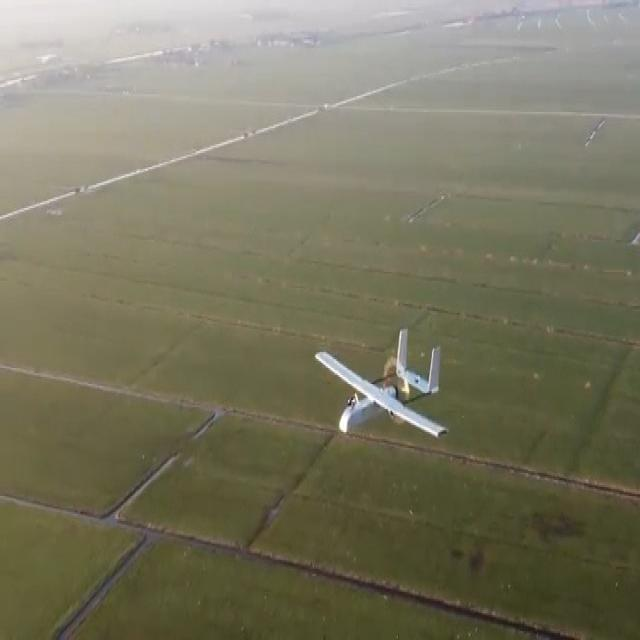drones: (310, 327, 450, 464)
